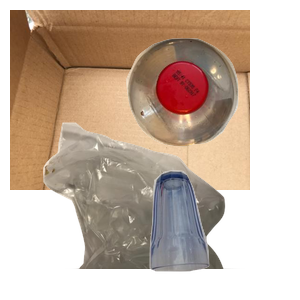cardboard: (10, 10, 250, 190)
glass: (147, 168, 300, 300)
plastic: (124, 36, 300, 175)
trash: (41, 120, 276, 300)
